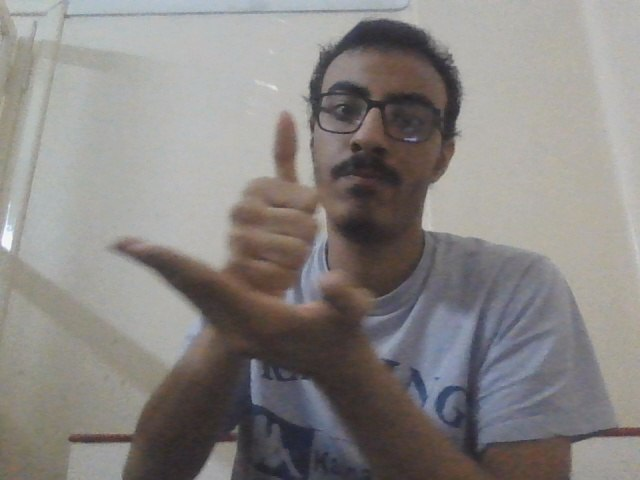Help: (111, 103, 380, 379)
